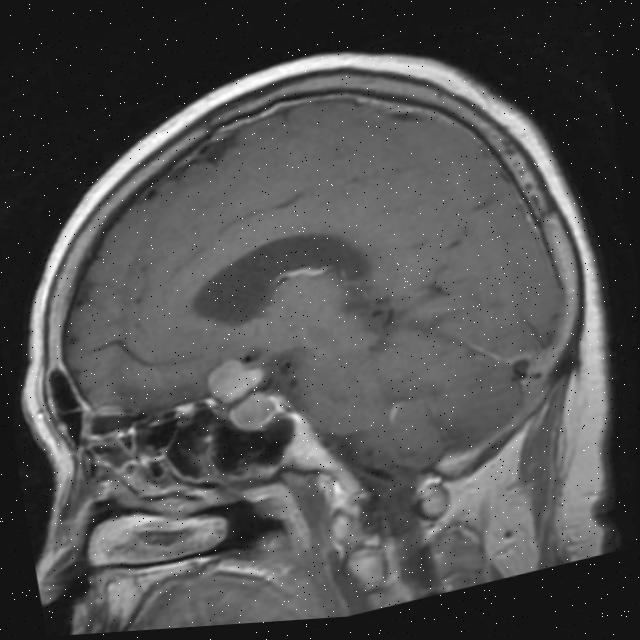Pituitary: (203, 348, 281, 439)
